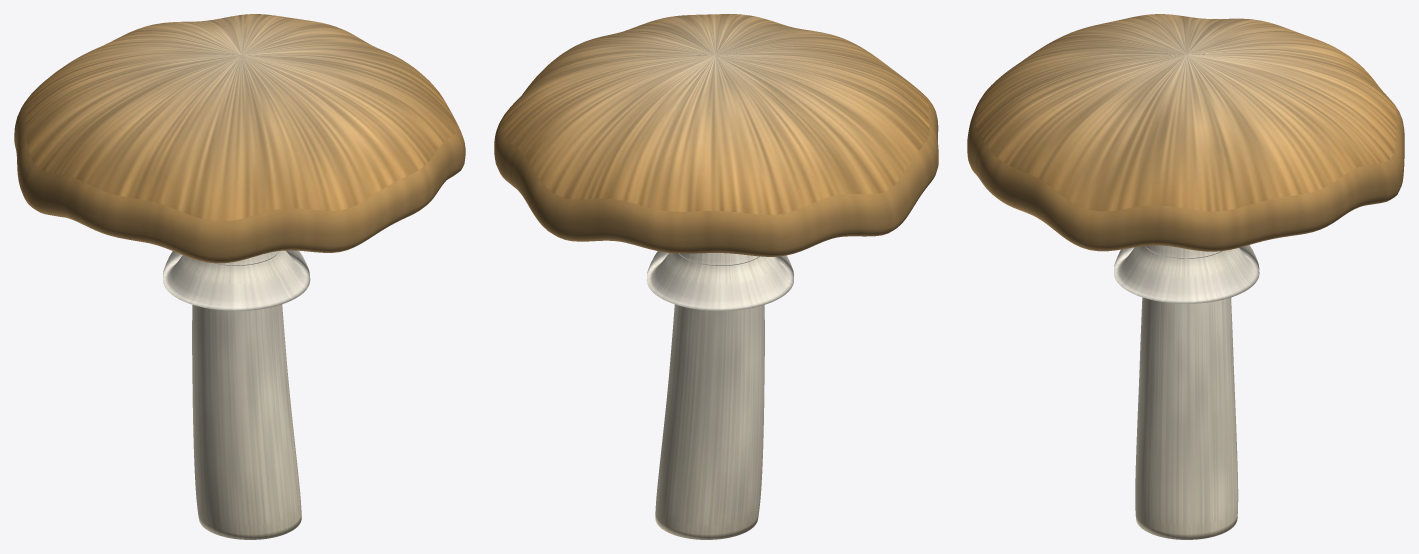
Rendered from cortinarius-caperatus-drawn.glb.
3 views of the same model, side by side, from view 1: azimuth 30°, elevation 25°; view 2: azimuth 150°, elevation 25°; view 3: azimuth 270°, elevation 25° (orthographic).
Bounding box in the file's own units: 0.7681 × 0.89 × 0.7657.
1 material, 1 textured.
